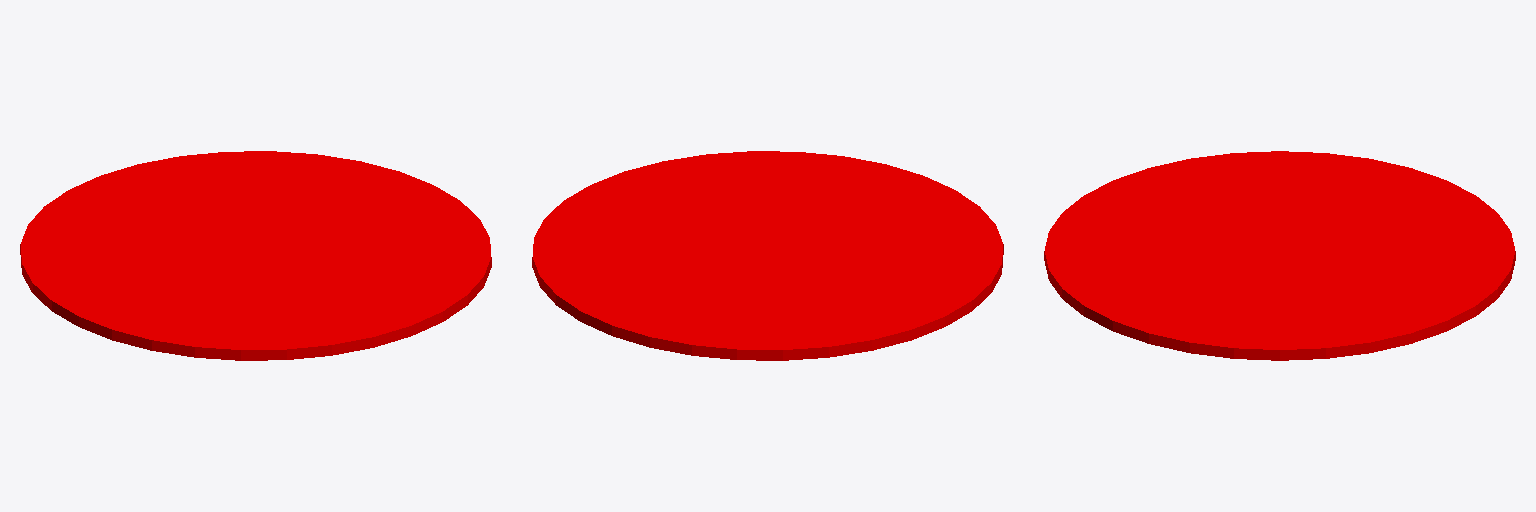
The robot description file, URDF, robot "goal_mark":
<?xml version="0.0" ?>
<robot name="goal_mark">
  <link name="goal_mark">
    <contact>
      <lateral_friction value="0.7"/>
      <rolling_friction value="0.0"/>
      <contact_cfm value="0.0"/>
      <contact_erp value="0.1"/>
    </contact>
    <inertial>
      <origin rpy="0 0 0" xyz="0 0 0"/>
       <mass value=".0"/>
       <inertia ixx=".01" ixy="0" ixz="0" iyy=".01" iyz="0" izz=".01"/>
    </inertial>
    <visual>
      <origin rpy="0 0 0" xyz="0.0 0.0 0.0"/>
      <geometry>
        <cylinder radius="0.02" length="0.001"/>
      </geometry>
      <material name="desert sand">
        <color rgba="1 0 0 0.8" />
      </material>
    </visual>
  </link>


</robot>

--- Facts derived from the render (not from the file) ---
3 views of the same robot in one strip: view 1: azimuth 30°, elevation 25°; view 2: azimuth 150°, elevation 25°; view 3: azimuth 270°, elevation 25° (orthographic).
Robot: goal_mark — 1 links, 0 joints (none); root link goal_mark; default pose: all joints at 0.
Visible links, largest first — view 1: goal_mark; view 2: goal_mark; view 3: goal_mark.
Link boxes in pixels (x1,y1,x2,y2): goal_mark: (20,151,491,360); goal_mark: (532,151,1003,360); goal_mark: (1044,151,1515,360).
Bounding box of the posed robot: 0.04 × 0.04 × 0.001 m (x, y, z).
Geometry: primitives only (box / cylinder / sphere), no mesh files.